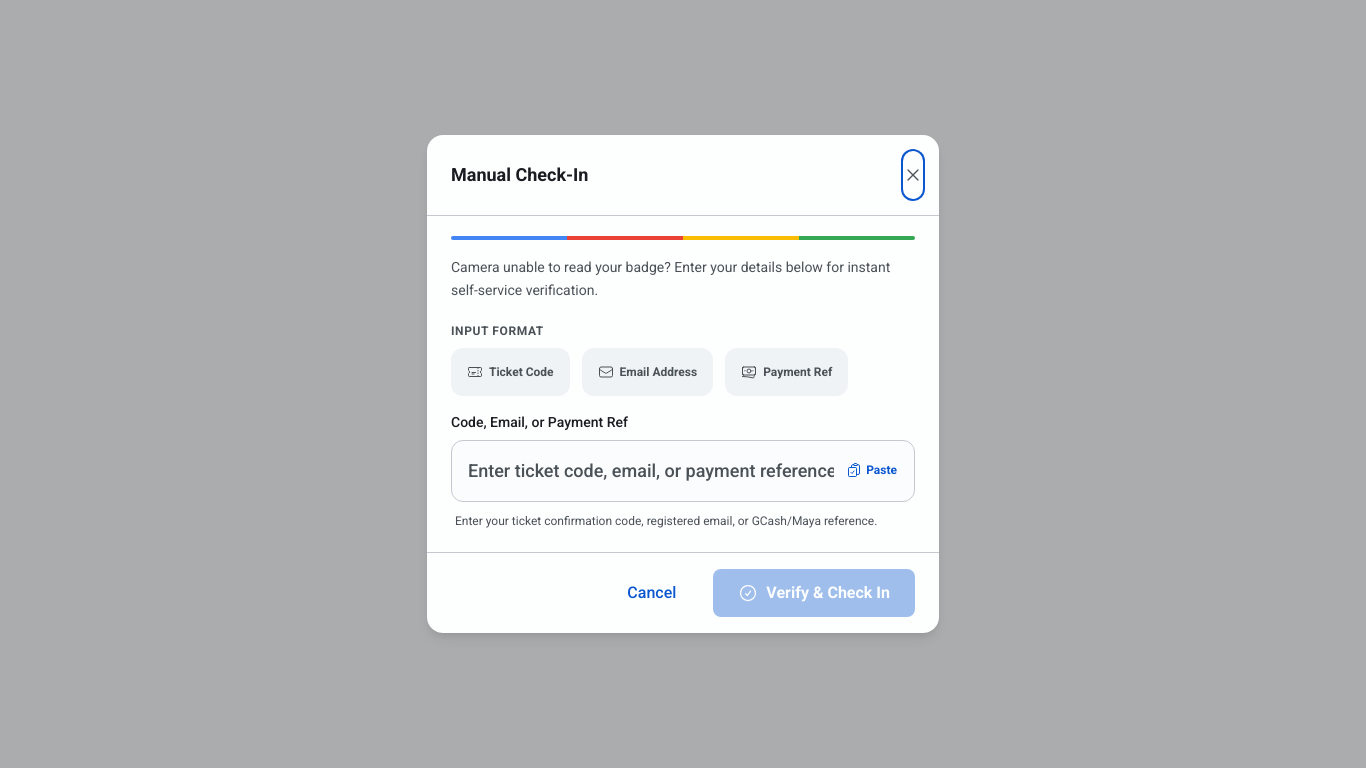
Test: KioskManualCodeModal Component (DOM) › automatically detects payment reference format as user types numbers
Type "100293848192" into the field at (683, 471), box [451,440,915,502]
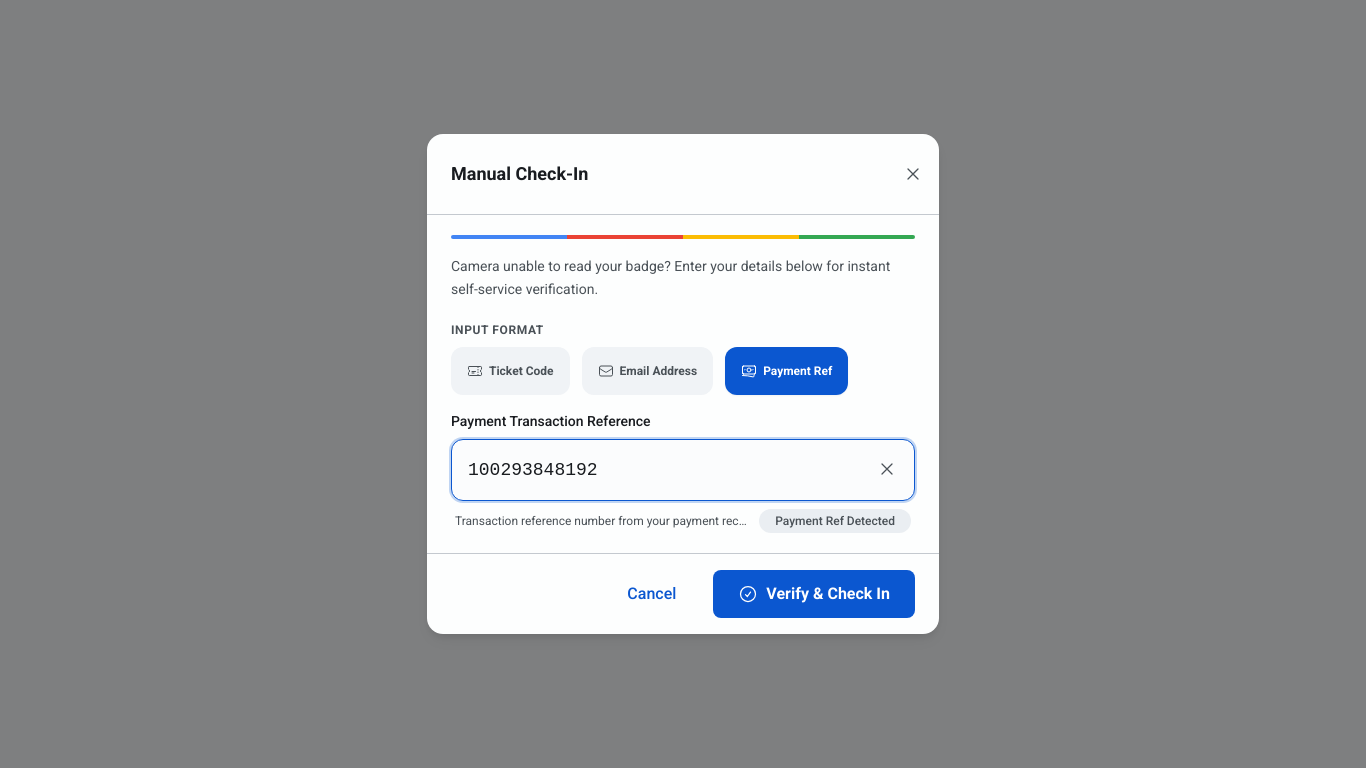
Check: the text "Payment Ref Detected" is shown, box [759,509,911,533]
